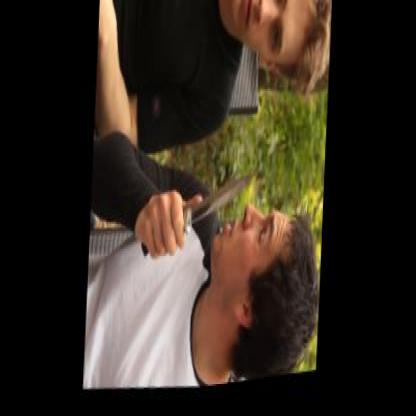knife: (131, 160, 258, 286)
